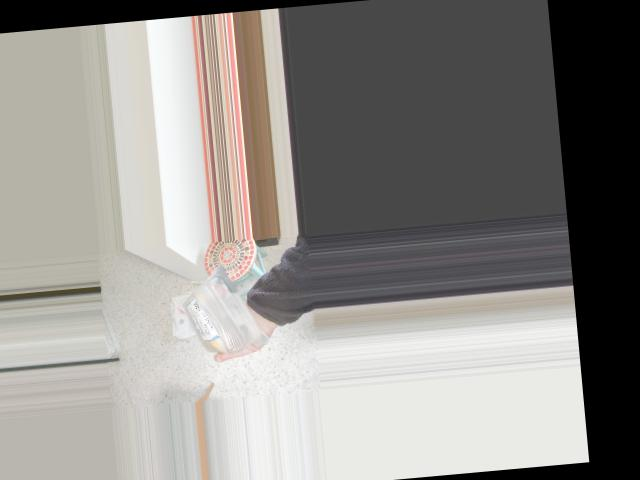cheese: (160, 293, 254, 340)
